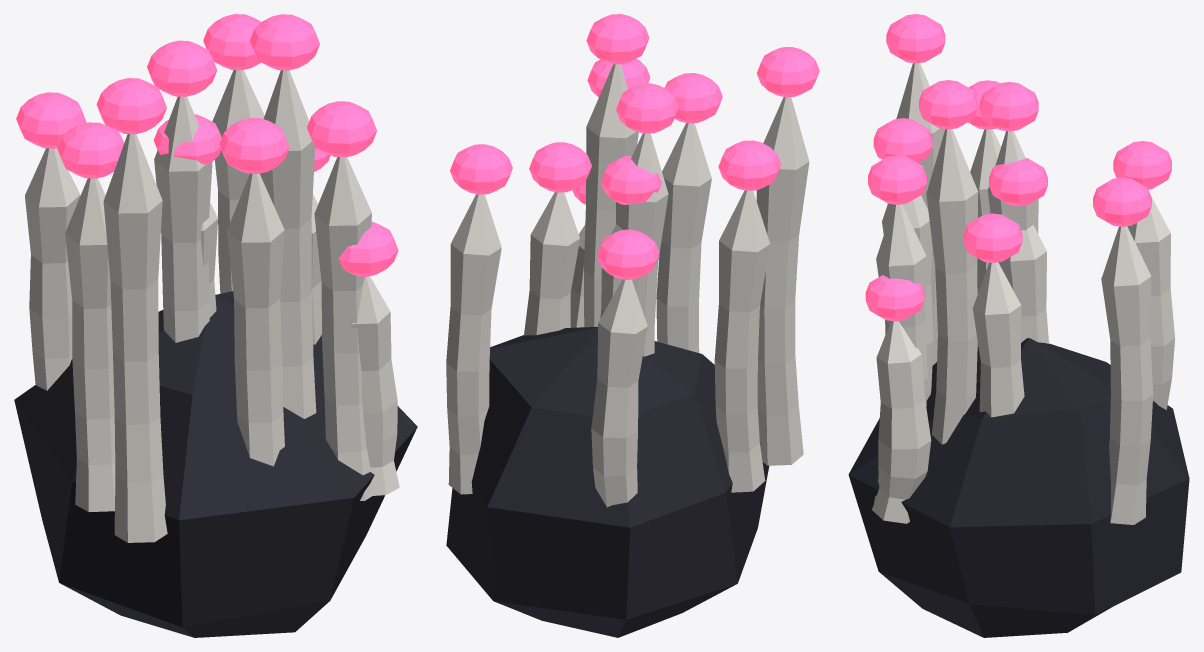
The model's file is TubeWorms.glb.
3 views of the same model, side by side, from view 1: azimuth 30°, elevation 25°; view 2: azimuth 150°, elevation 25°; view 3: azimuth 270°, elevation 25° (orthographic). The views are drawn at different scales.
Parts seen in each view (by area): view 1: TubeWorms, TubeWorms_Glow; view 2: TubeWorms, TubeWorms_Glow; view 3: TubeWorms, TubeWorms_Glow.
Part boxes in pixels (x1,y1,x2,y2): TubeWorms: (14,70,417,637); TubeWorms_Glow: (16,14,398,276); TubeWorms: (446,64,809,637); TubeWorms_Glow: (450,14,819,279); TubeWorms: (848,63,1189,637); TubeWorms_Glow: (865,14,1171,321).
Size of the model in its own units: 1.75 by 3 by 1.76.
2 materials, 1 textured.
